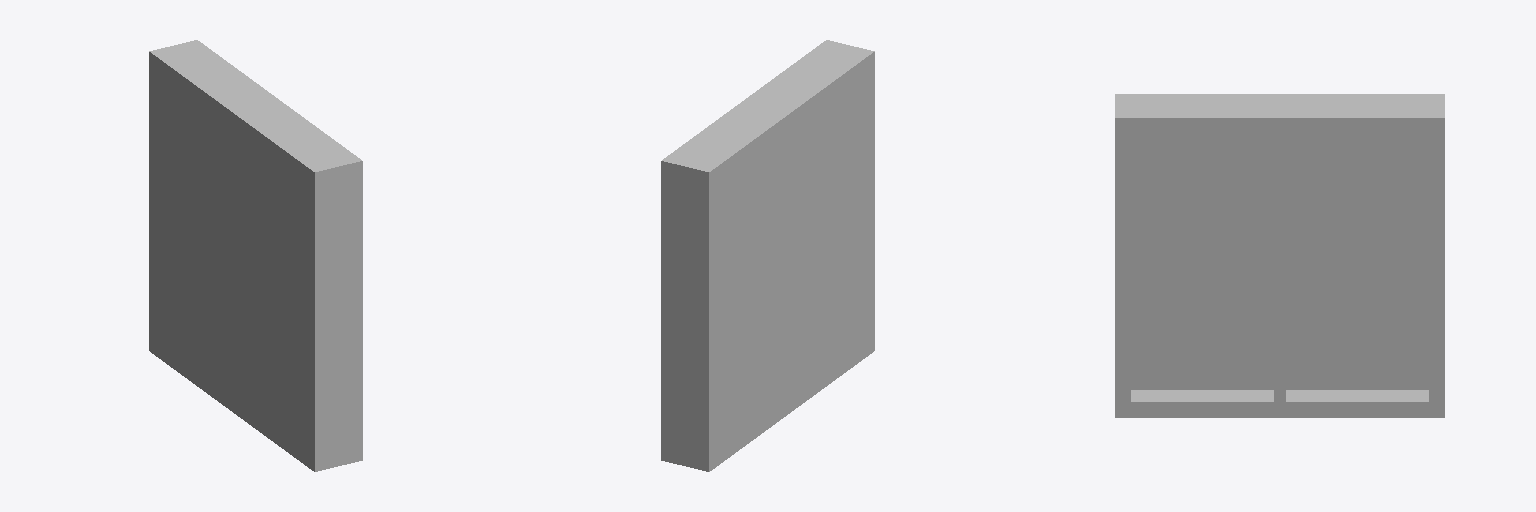
The model's file is window1.obj.
3 views of the same model, side by side, from view 1: azimuth 30°, elevation 25°; view 2: azimuth 150°, elevation 25°; view 3: azimuth 270°, elevation 25° (orthographic).
Parts seen in each view (by area): view 1: Plane_Plane.007; view 2: Plane_Plane.007; view 3: Plane_Plane.007, Cube_Cube.001.
Boxes of the visible parts, box(x1,y1,x2,y2) form: Plane_Plane.007: box(149, 40, 362, 471); Plane_Plane.007: box(661, 40, 874, 471); Plane_Plane.007: box(1115, 94, 1444, 417); Cube_Cube.001: box(1274, 133, 1285, 401).
Size of the model in its own units: 0.3359 by 2 by 2.